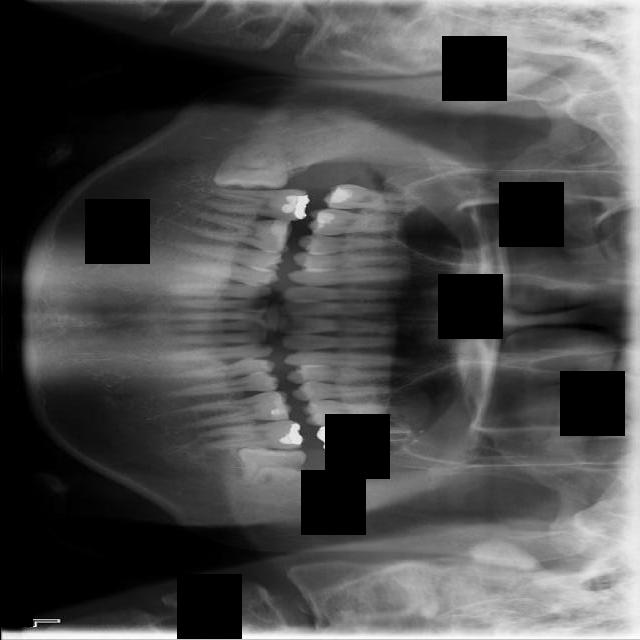52: (259, 182, 312, 226), (242, 213, 293, 256), (244, 390, 292, 423), (257, 419, 305, 451), (315, 425, 366, 453), (322, 183, 371, 210), (307, 208, 354, 236)
73: (354, 420, 425, 449), (38, 604, 50, 608)
BioHorizons Implant: (316, 424, 424, 452)
Biomet 3i Implant: (233, 444, 306, 490)
Blue Sky Bio Implant: (197, 420, 305, 450)
Caries: (322, 182, 423, 216)
Implant: (202, 188, 309, 222)
Keystone Dental Implant: (213, 143, 291, 193)
